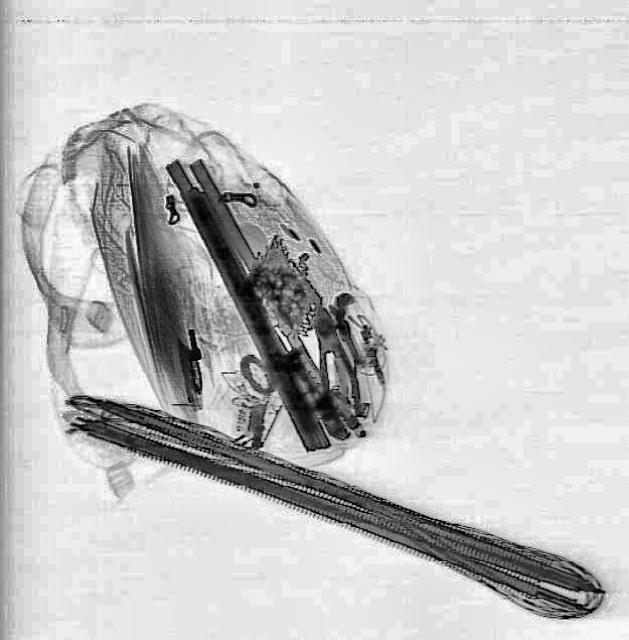Pliers: (300, 300, 366, 424)
